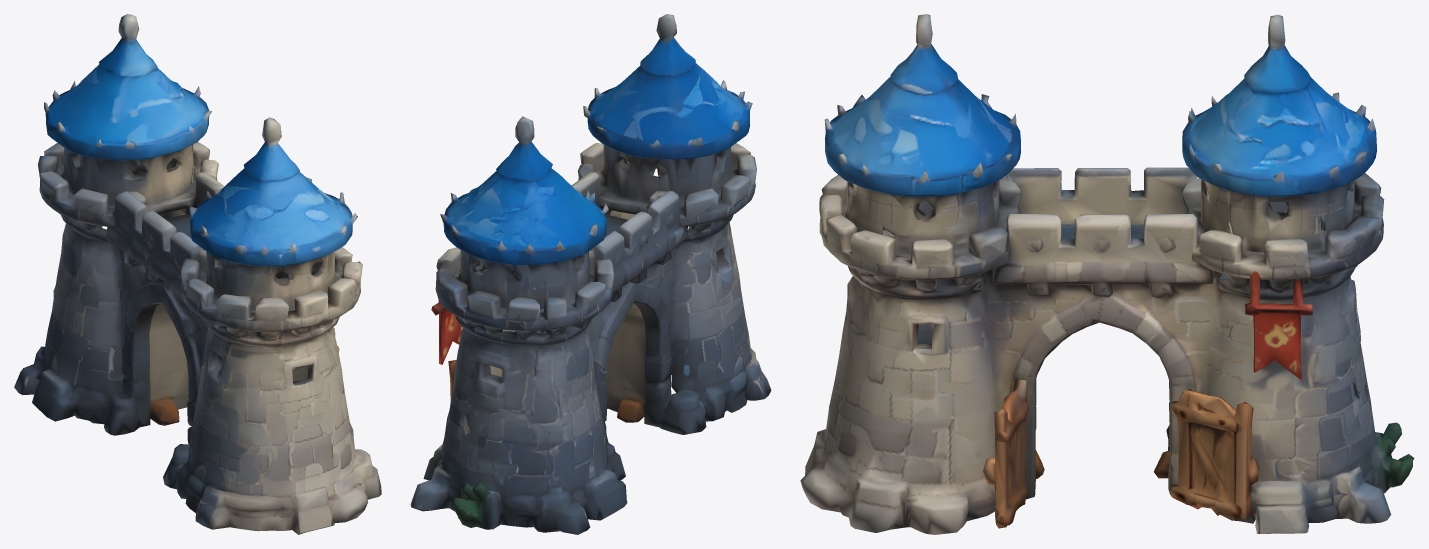
The model's file is stadttor.glb.
3 renders of one model, left to right at view 1: azimuth 30°, elevation 25°; view 2: azimuth 150°, elevation 25°; view 3: azimuth 270°, elevation 25°, orthographic. The views are drawn at different scales.
Parts seen in each view (by area): view 1: tripo_node_f12f96d3-0172-40cf-9f59-e1723ce3b388; view 2: tripo_node_f12f96d3-0172-40cf-9f59-e1723ce3b388; view 3: tripo_node_f12f96d3-0172-40cf-9f59-e1723ce3b388.
Boxes of the visible parts, <box> form: tripo_node_f12f96d3-0172-40cf-9f59-e1723ce3b388: <box>14,14,381,534</box>; tripo_node_f12f96d3-0172-40cf-9f59-e1723ce3b388: <box>410,14,771,534</box>; tripo_node_f12f96d3-0172-40cf-9f59-e1723ce3b388: <box>800,14,1414,534</box>.
Size of the model in its own units: 0.443 by 0.8393 by 1.
Materials: 1 (1 with a texture image).
